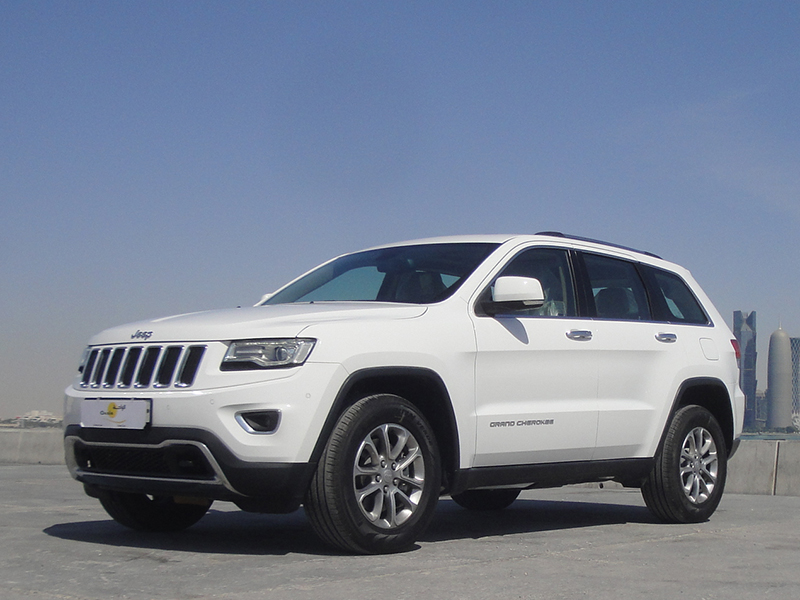other: (66, 215, 753, 539)
